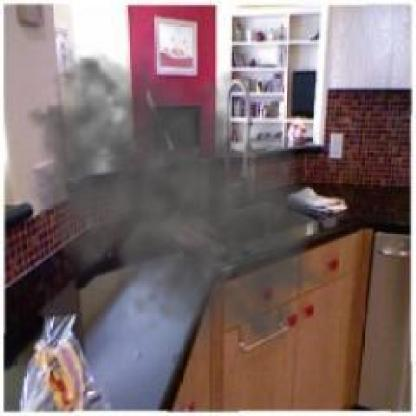Smoke: (5, 29, 345, 366)
